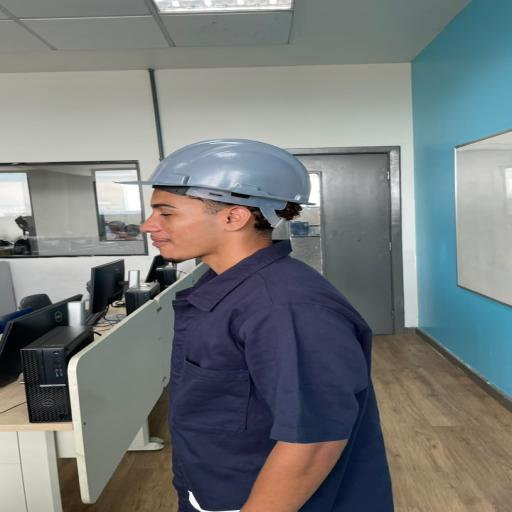CAPACETE: (112, 138, 316, 228)
